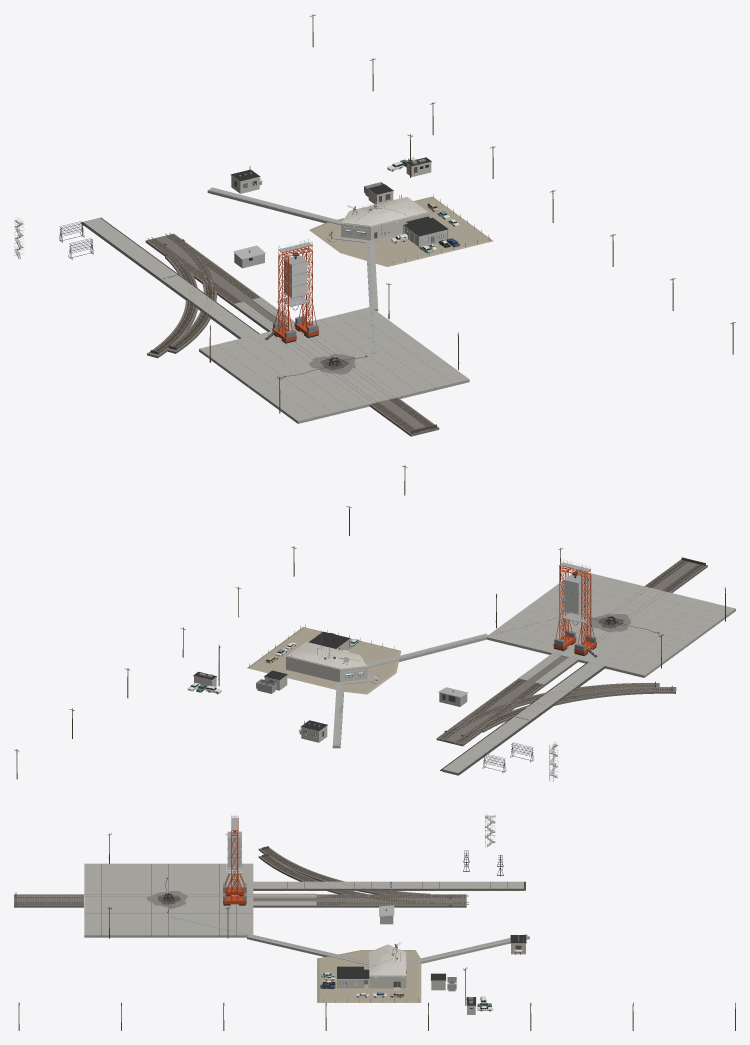
3 renders of one model, top to bottom at view 1: azimuth 30°, elevation 25°; view 2: azimuth 150°, elevation 25°; view 3: azimuth 270°, elevation 25°, orthographic. The views are drawn at different scales.
Visible parts, largest first — view 1: Pad6_Concrete, Track_Ballast, Blockhouse_Shell, Track_Tie, Road_Concrete, Pad6Gantry_Red, Track_Rail, Blockhouse_BunkerRoof, CableTrenches_ConcreteTrench, Track_BallastSpur, Blockhouse_Bunker, Road_Joint (+2 smaller); view 2: Pad6_Concrete, Track_Ballast, Blockhouse_Shell, Track_Tie, Road_Concrete, Track_Rail, Pad6Gantry_Red, Track_BallastSpur, Blockhouse_BunkerRoof, Blockhouse_Bunker, CableTrenches_ConcreteTrench, Road_Joint (+2 smaller); view 3: Pad6_Concrete, Track_Ballast, Blockhouse_Shell, Road_Concrete, Track_Rail, Track_Tie, Track_BallastSpur, CableTrenches_ConcreteTrench, Blockhouse_BunkerRoof, Pad6Gantry_Red, Track_Concrete, Road_Joint (+6 smaller).
Boxes of the visible parts, x1,y1,x2,y2 form: Pad6_Concrete: (199,307,469,423); Track_Ballast: (145,233,439,436); Blockhouse_Shell: (309,196,493,266); Track_Tie: (148,234,437,433); Road_Concrete: (83,218,258,337); Pad6Gantry_Red: (272,245,318,341); Track_Rail: (147,232,432,430); Blockhouse_BunkerRoof: (342,197,427,225); CableTrenches_ConcreteTrench: (207,187,378,311); Track_BallastSpur: (147,256,216,358); Blockhouse_Bunker: (341,197,429,240); Road_Joint: (80,217,259,338); Pad6_Concrete: (486,570,735,677); Track_Ballast: (436,559,707,746); Blockhouse_Shell: (247,627,401,694); Track_Tie: (439,557,705,743); Road_Concrete: (442,662,604,775); Track_Rail: (438,560,703,744); Pad6Gantry_Red: (553,565,596,654); Track_BallastSpur: (482,683,676,732); Blockhouse_BunkerRoof: (288,642,366,668); Blockhouse_Bunker: (286,642,367,682); CableTrenches_ConcreteTrench: (332,633,487,748); Road_Joint: (440,662,606,775); Pad6_Concrete: (84,863,253,937); Track_Ballast: (14,894,466,907); Blockhouse_Shell: (317,950,421,1002); Road_Concrete: (253,881,523,890); Track_Rail: (16,848,468,904); Track_Tie: (14,846,464,906); Track_BallastSpur: (258,847,430,894); CableTrenches_ConcreteTrench: (247,934,529,965); Blockhouse_BunkerRoof: (370,944,405,975); Pad6Gantry_Red: (223,818,246,904); Track_Concrete: (253,893,316,905); Road_Joint: (253,881,525,890).
Bounding box in the file's own units: 157 × 34.17 × 260.
